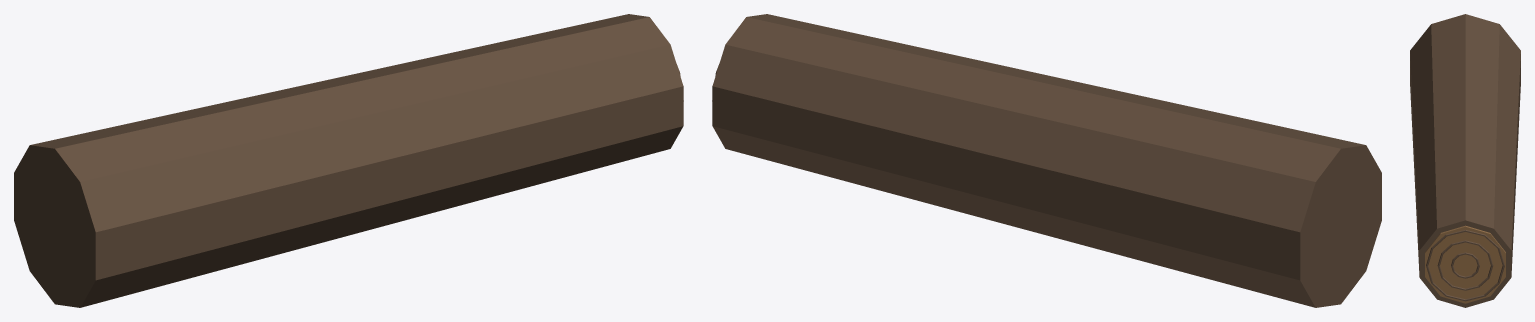
Rendered from nature-log.lod0.glb.
The picture shows the model from 3 angles, left to right: view 1: azimuth 30°, elevation 25°; view 2: azimuth 150°, elevation 25°; view 3: azimuth 270°, elevation 25°; orthographic projection. The views are drawn at different scales.
Parts seen in each view (by area): view 1: nature-log__body; view 2: nature-log__body; view 3: nature-log__body.
Boxes of the visible parts, x1,y1,x2,y2 form: nature-log__body: [14, 14, 683, 307]; nature-log__body: [712, 14, 1381, 307]; nature-log__body: [1410, 14, 1520, 307].
Size of the model in its own units: 2.83 by 0.7 by 0.6657.
